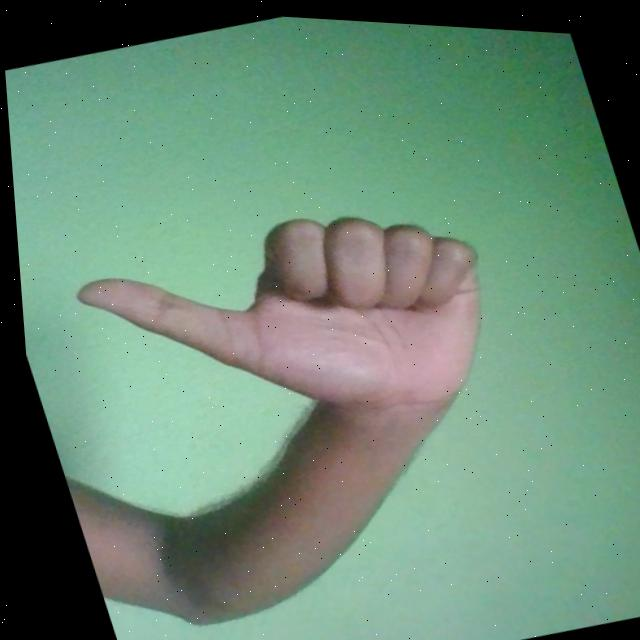Dislike: (54, 164, 522, 479)
